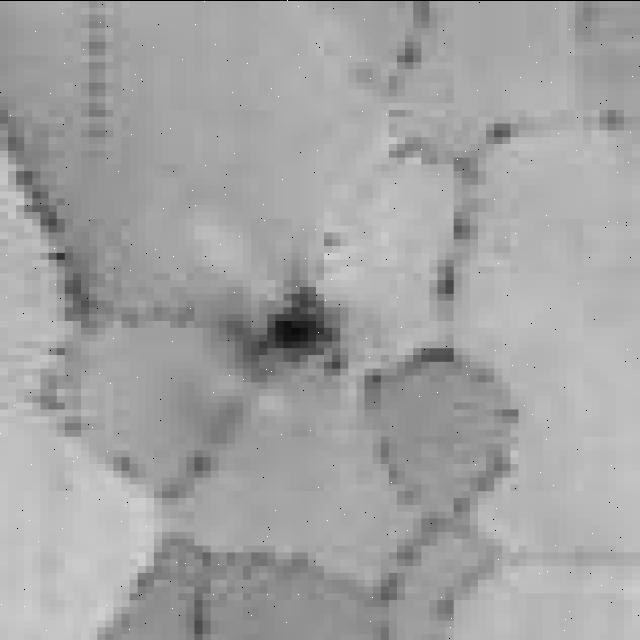good_void: (245, 269, 359, 386)
